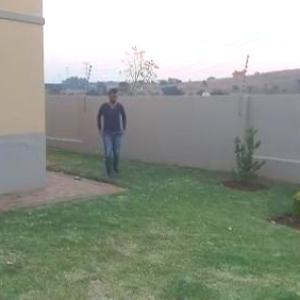follow: (94, 85, 128, 182)
